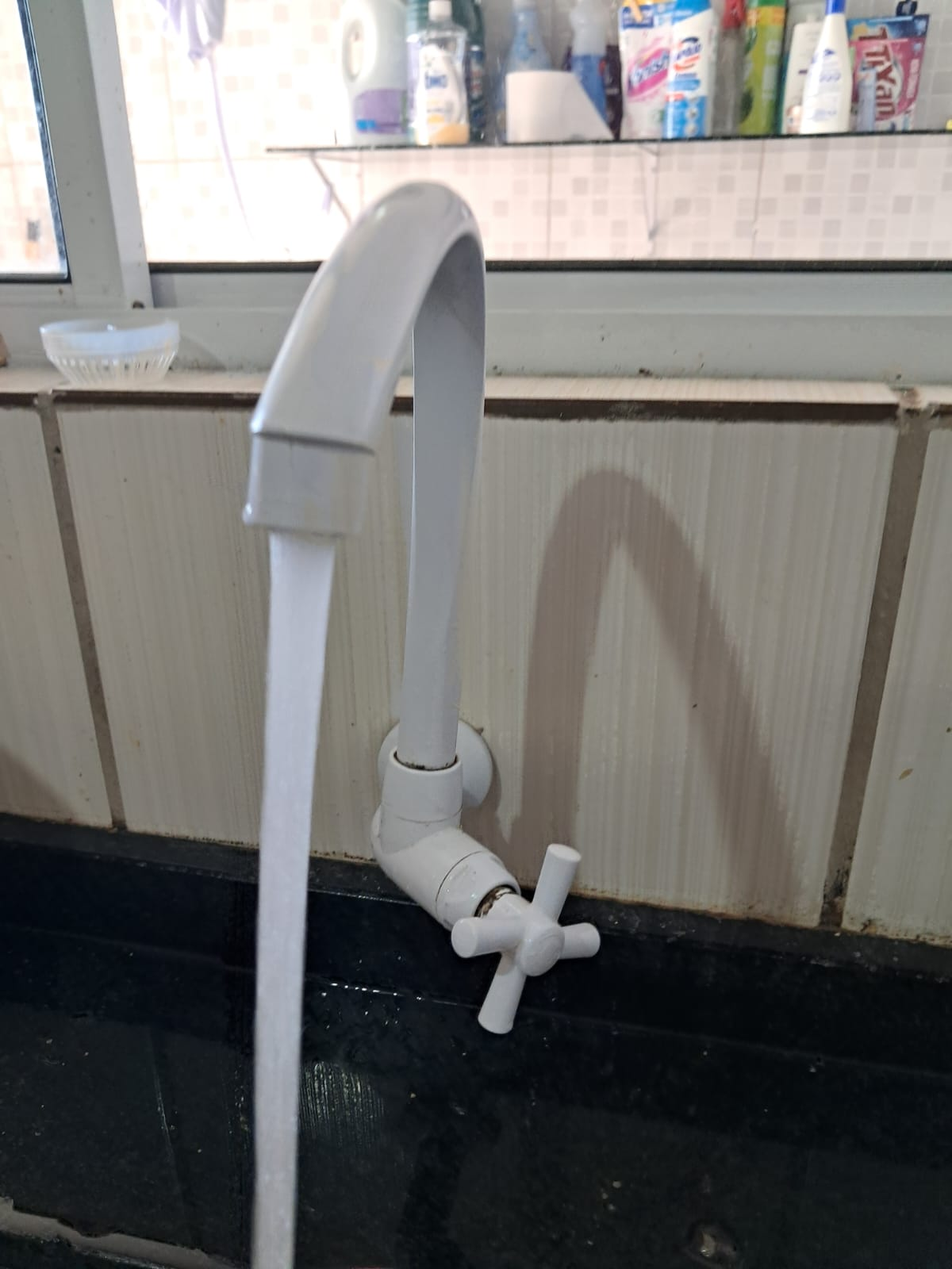torneira_aberta: (168, 151, 627, 1048)
